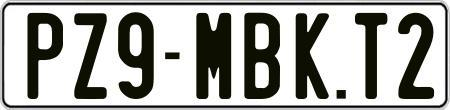2: (397, 10, 431, 101)
9: (117, 9, 158, 100)
B: (241, 11, 280, 99)
K: (296, 11, 335, 102)
M: (193, 10, 233, 99)
P: (27, 12, 65, 101)
T: (352, 10, 389, 96)
Z: (71, 11, 108, 102)
